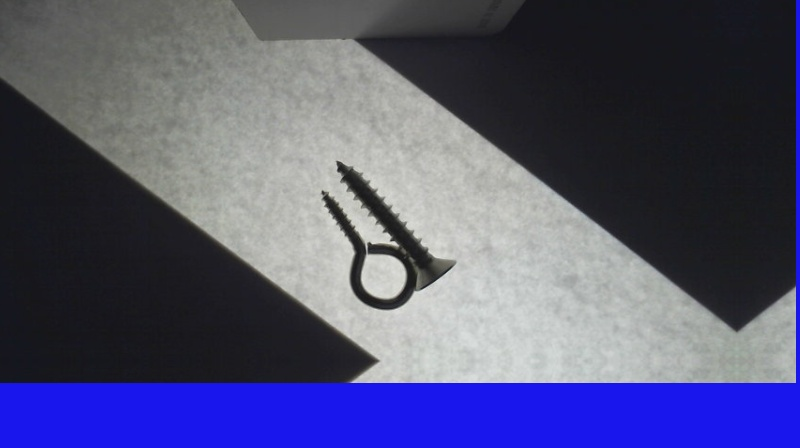O001: (317, 190, 419, 310)
S001: (333, 159, 456, 291)
